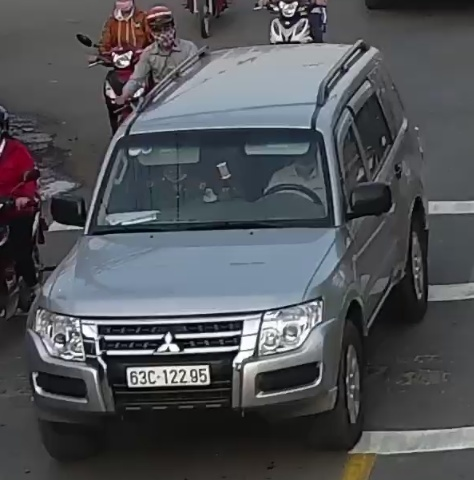vehicle plate: (121, 364, 215, 389)
